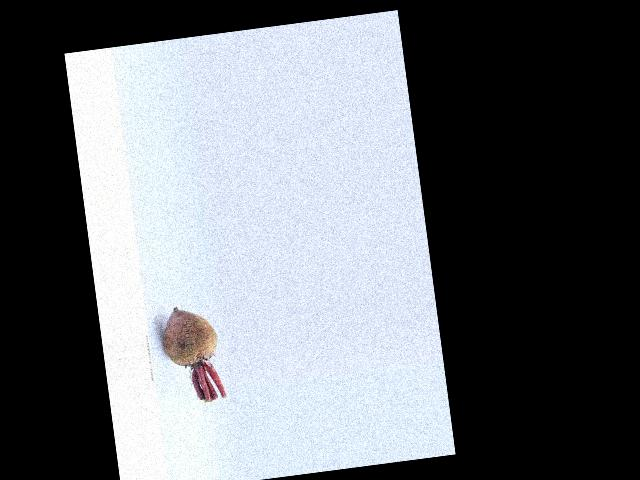beet: (159, 303, 225, 405)
